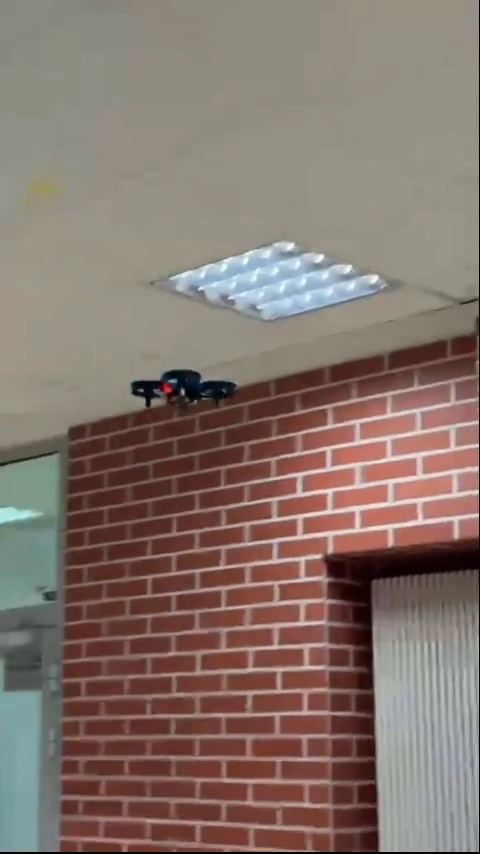drone: (131, 370, 239, 418)
